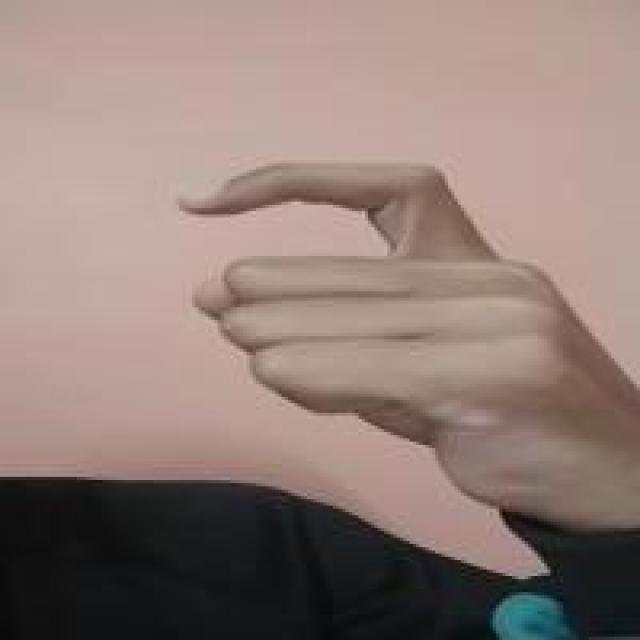X: (176, 162, 640, 507)
